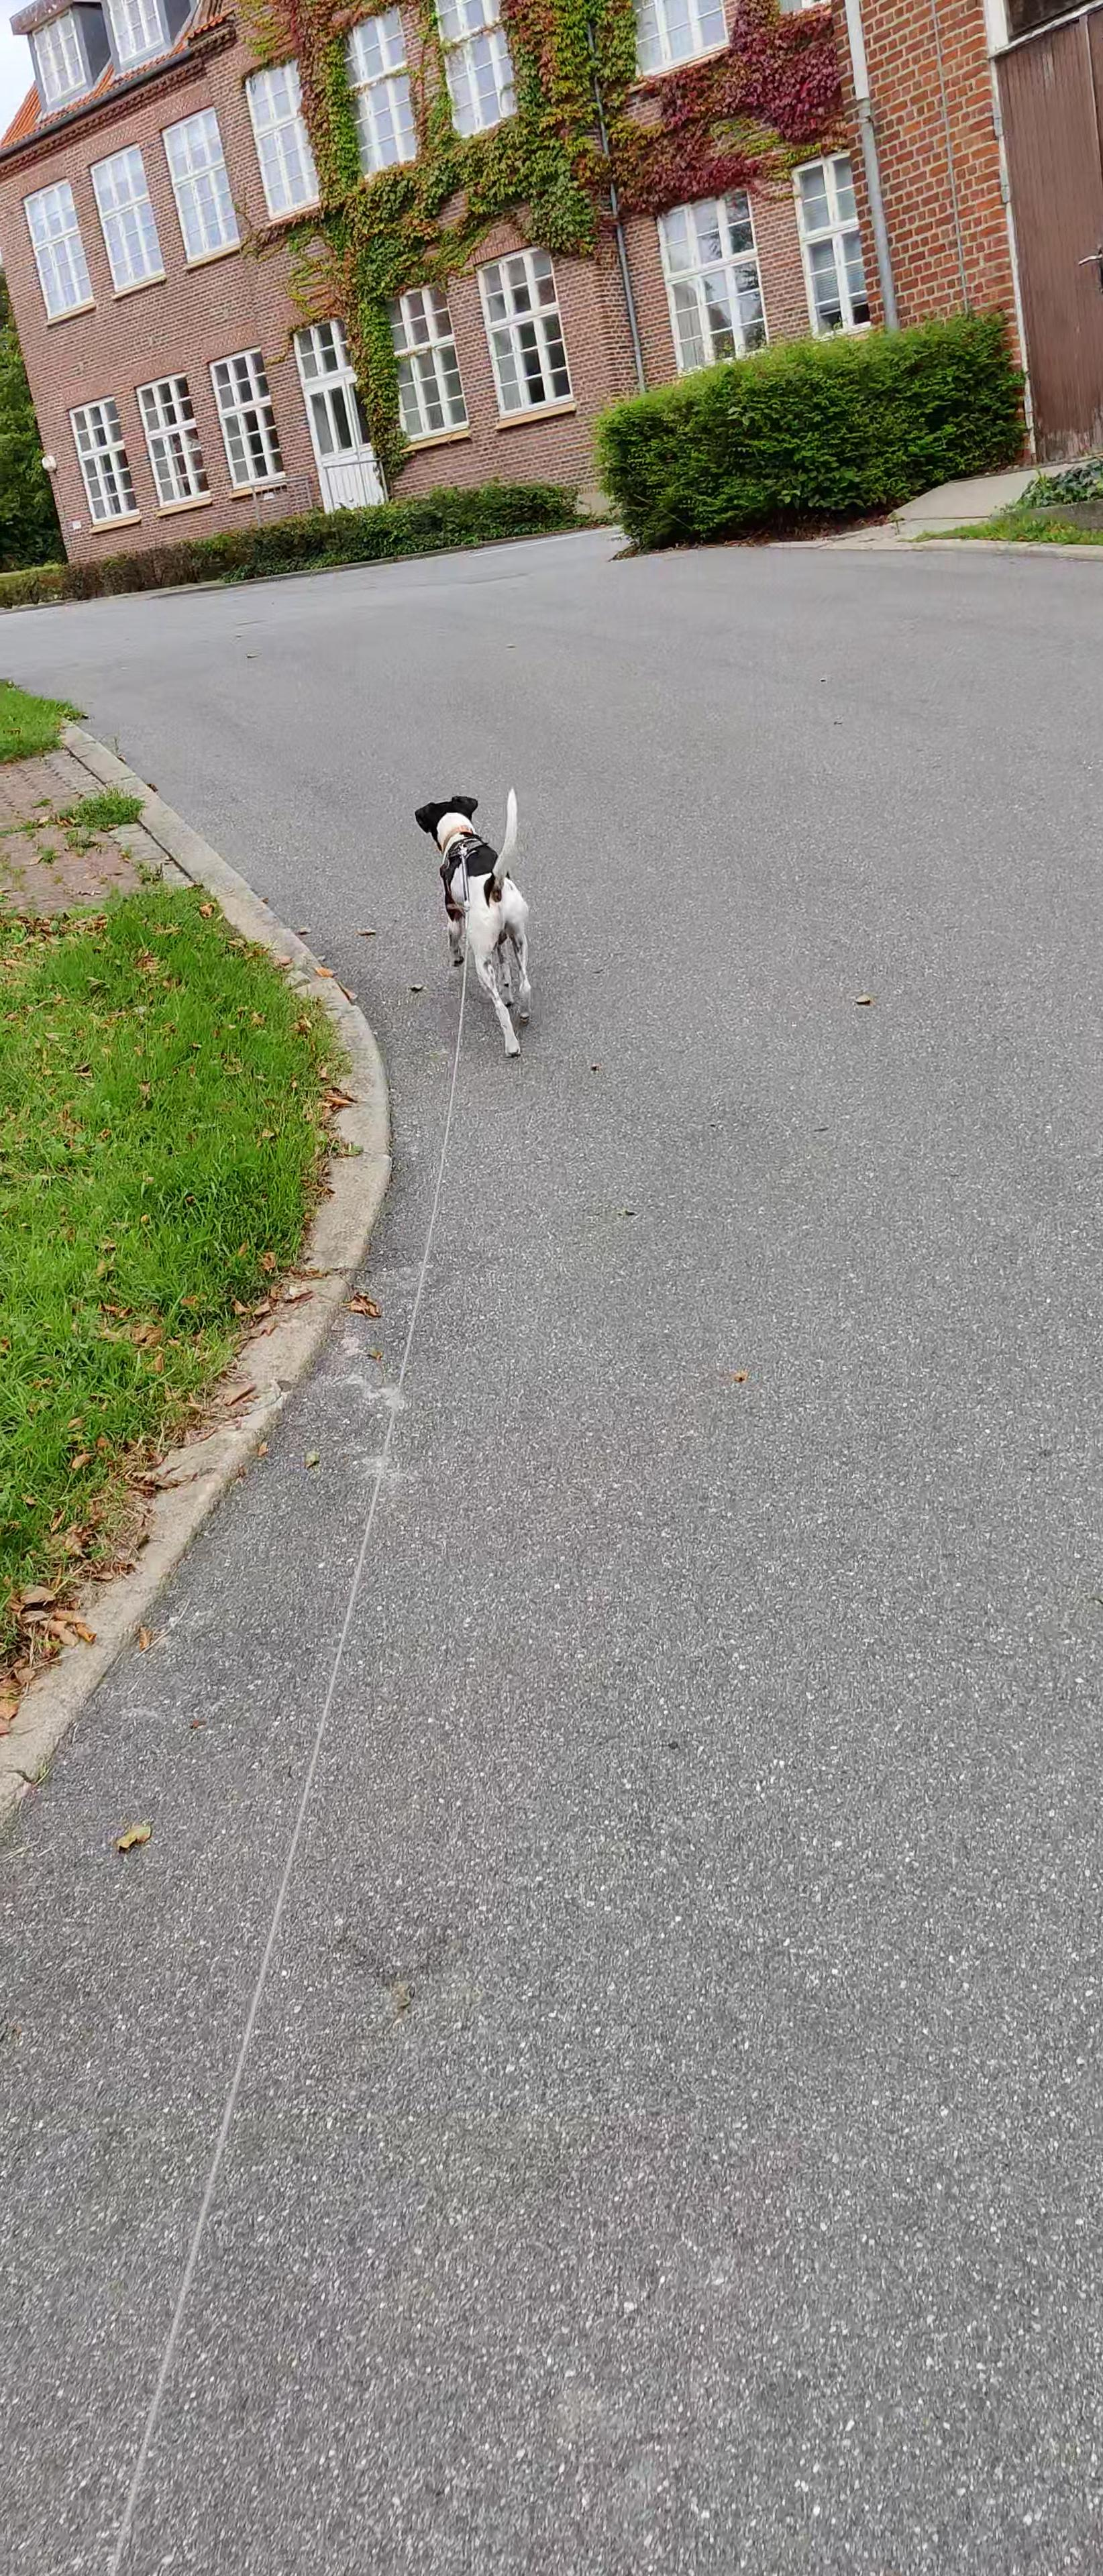Dog: (409, 782, 541, 1066)
